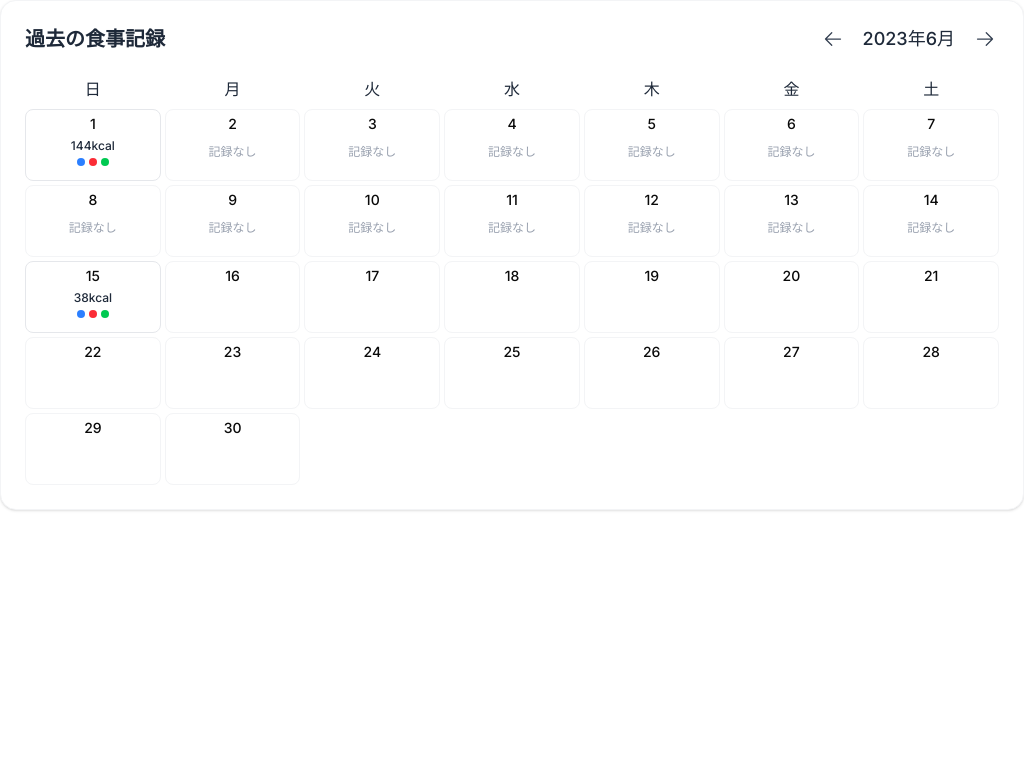
Scenario: MealHistory › 詳細表示を閉じる機能が動作すること
Expected: the heading "過去の食事記録" is shown, [25, 25, 165, 53]
Click the element showing "1 144 kcal" at (93, 145), box [25, 109, 161, 181]
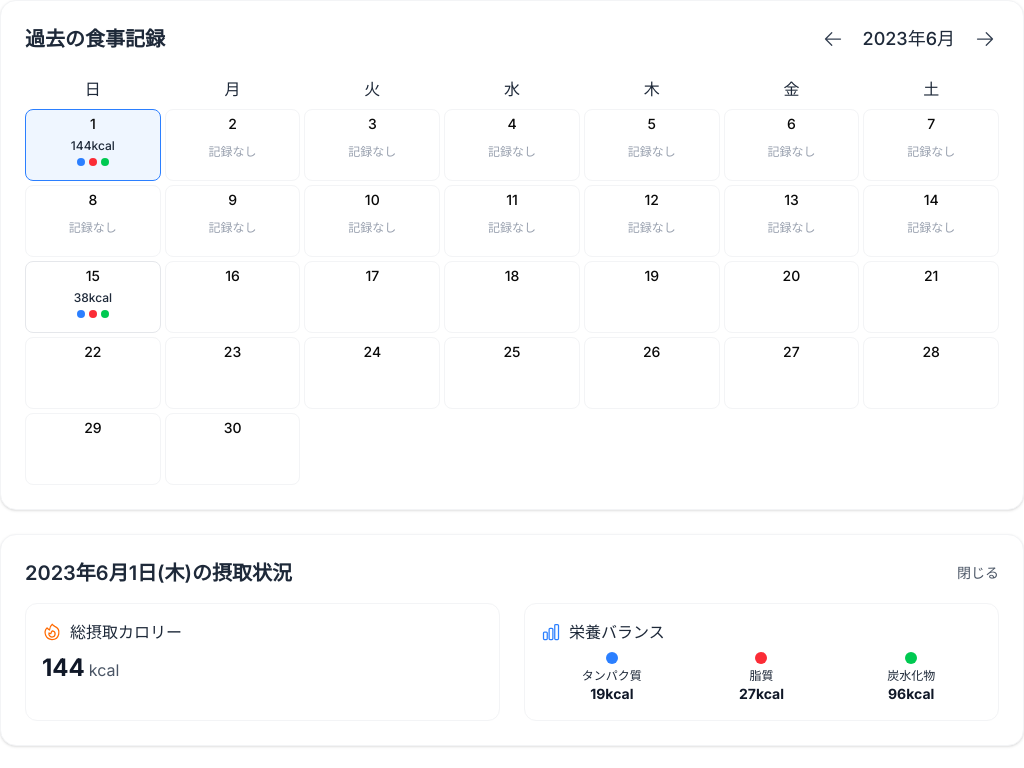
Expected: the heading "2023年6月1日(木)の摂取状況" is shown, [25, 559, 292, 587]
Note: 閉じるボタンをクリック
Click the button "閉じる" at (978, 573), box [957, 563, 999, 583]
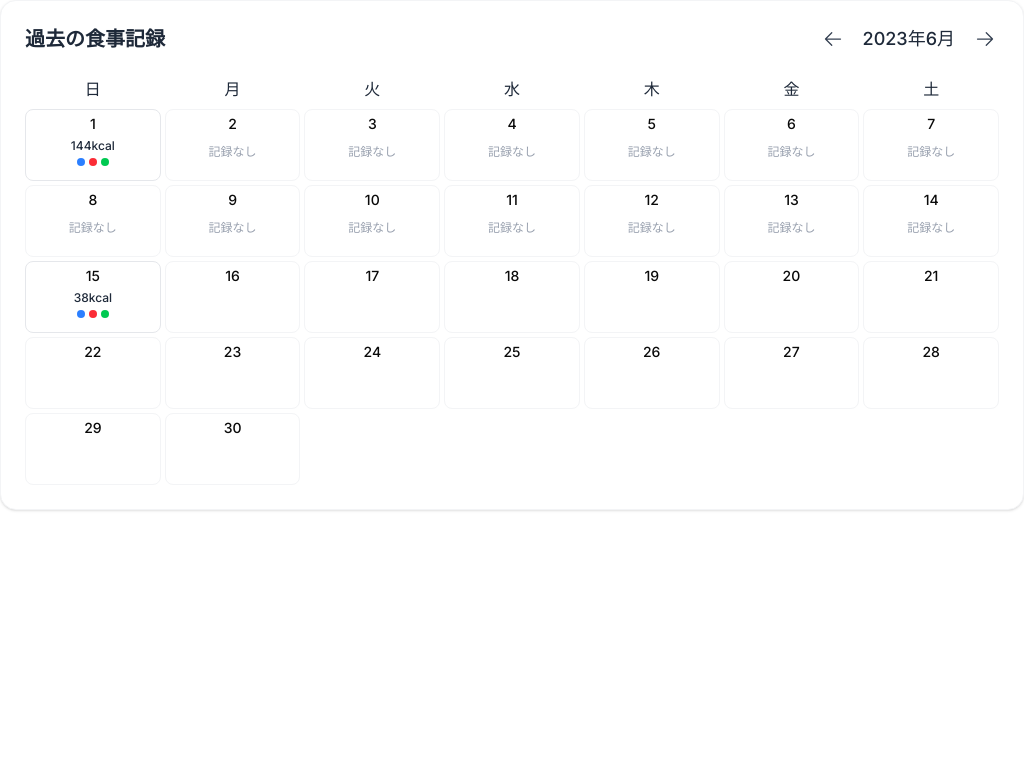
Expected: the heading "の摂取状況" is gone
